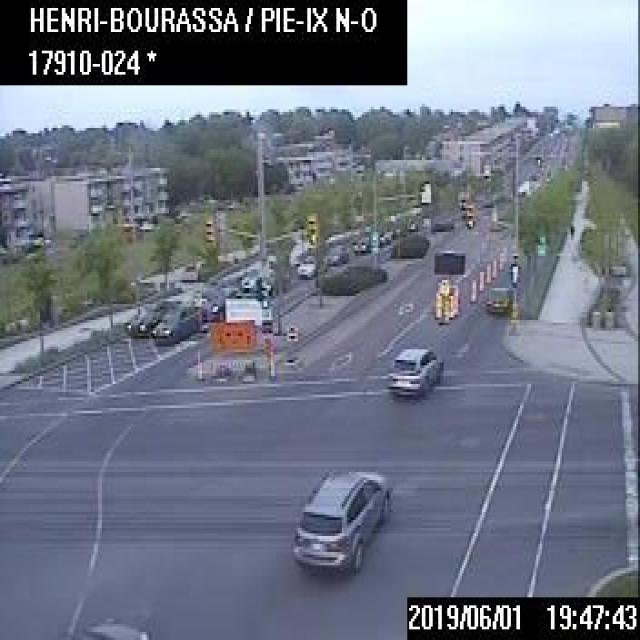construction: (193, 293, 276, 384), (431, 250, 464, 322), (440, 296, 448, 323), (433, 290, 440, 316), (451, 282, 457, 312), (447, 292, 453, 316)
pedestrian: (568, 221, 574, 236)
vehicle: (289, 464, 391, 576), (385, 344, 442, 395), (150, 302, 198, 344), (124, 299, 171, 333), (80, 616, 149, 637), (200, 286, 238, 318), (484, 283, 511, 312), (322, 243, 347, 264), (240, 262, 258, 289), (295, 253, 315, 276), (350, 231, 368, 253)
